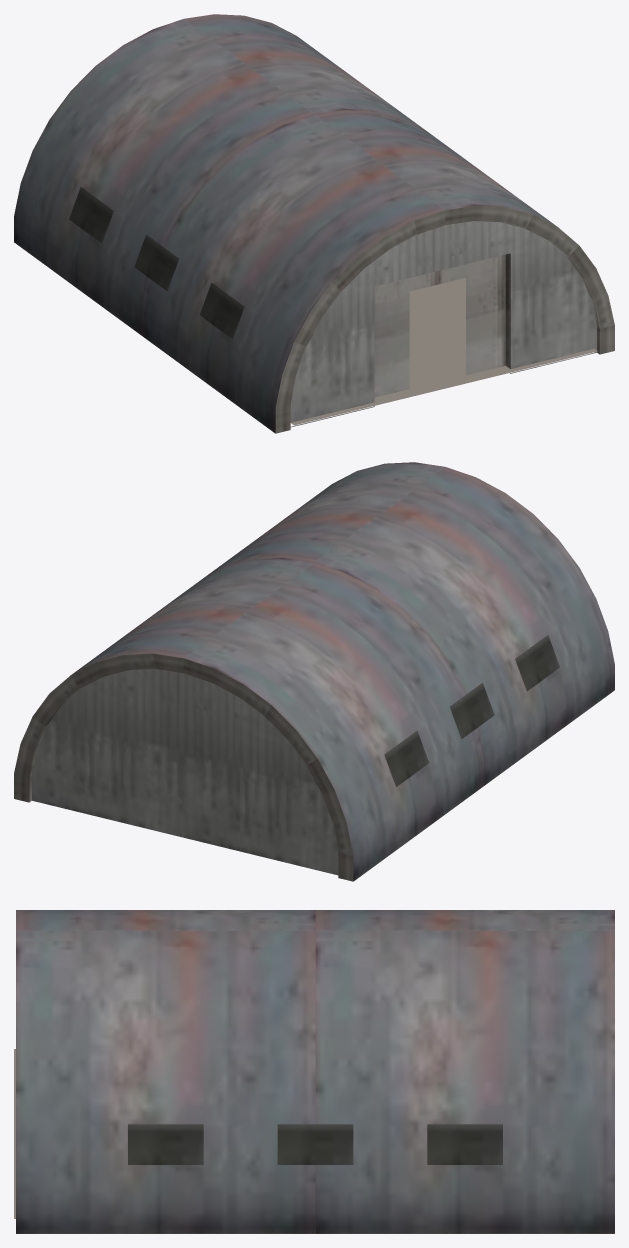
Rendered from rural-quonset.access-v2.lod1.glb.
3 views of the same model, one above another, from view 1: azimuth 30°, elevation 25°; view 2: azimuth 150°, elevation 25°; view 3: azimuth 270°, elevation 25° (orthographic). The views are drawn at different scales.
Visible parts, largest first — view 1: Rural_QuonsetHut_1_Rural_Industrial_Walls_FLR_1_0, Walkable floors and stairs; view 2: Rural_QuonsetHut_1_Rural_Industrial_Walls_FLR_1_0; view 3: Rural_QuonsetHut_1_Rural_Industrial_Walls_FLR_1_0.
Boxes of the visible parts, x1,y1,x2,y2 form: Rural_QuonsetHut_1_Rural_Industrial_Walls_FLR_1_0: (14,14,614,433); Walkable floors and stairs: (291,278,597,425); Rural_QuonsetHut_1_Rural_Industrial_Walls_FLR_1_0: (14,462,614,881); Rural_QuonsetHut_1_Rural_Industrial_Walls_FLR_1_0: (16,910,614,1233).
Bounding box in the file's own units: 9.38 × 4.81 × 12.56.
2 materials, 1 textured.
